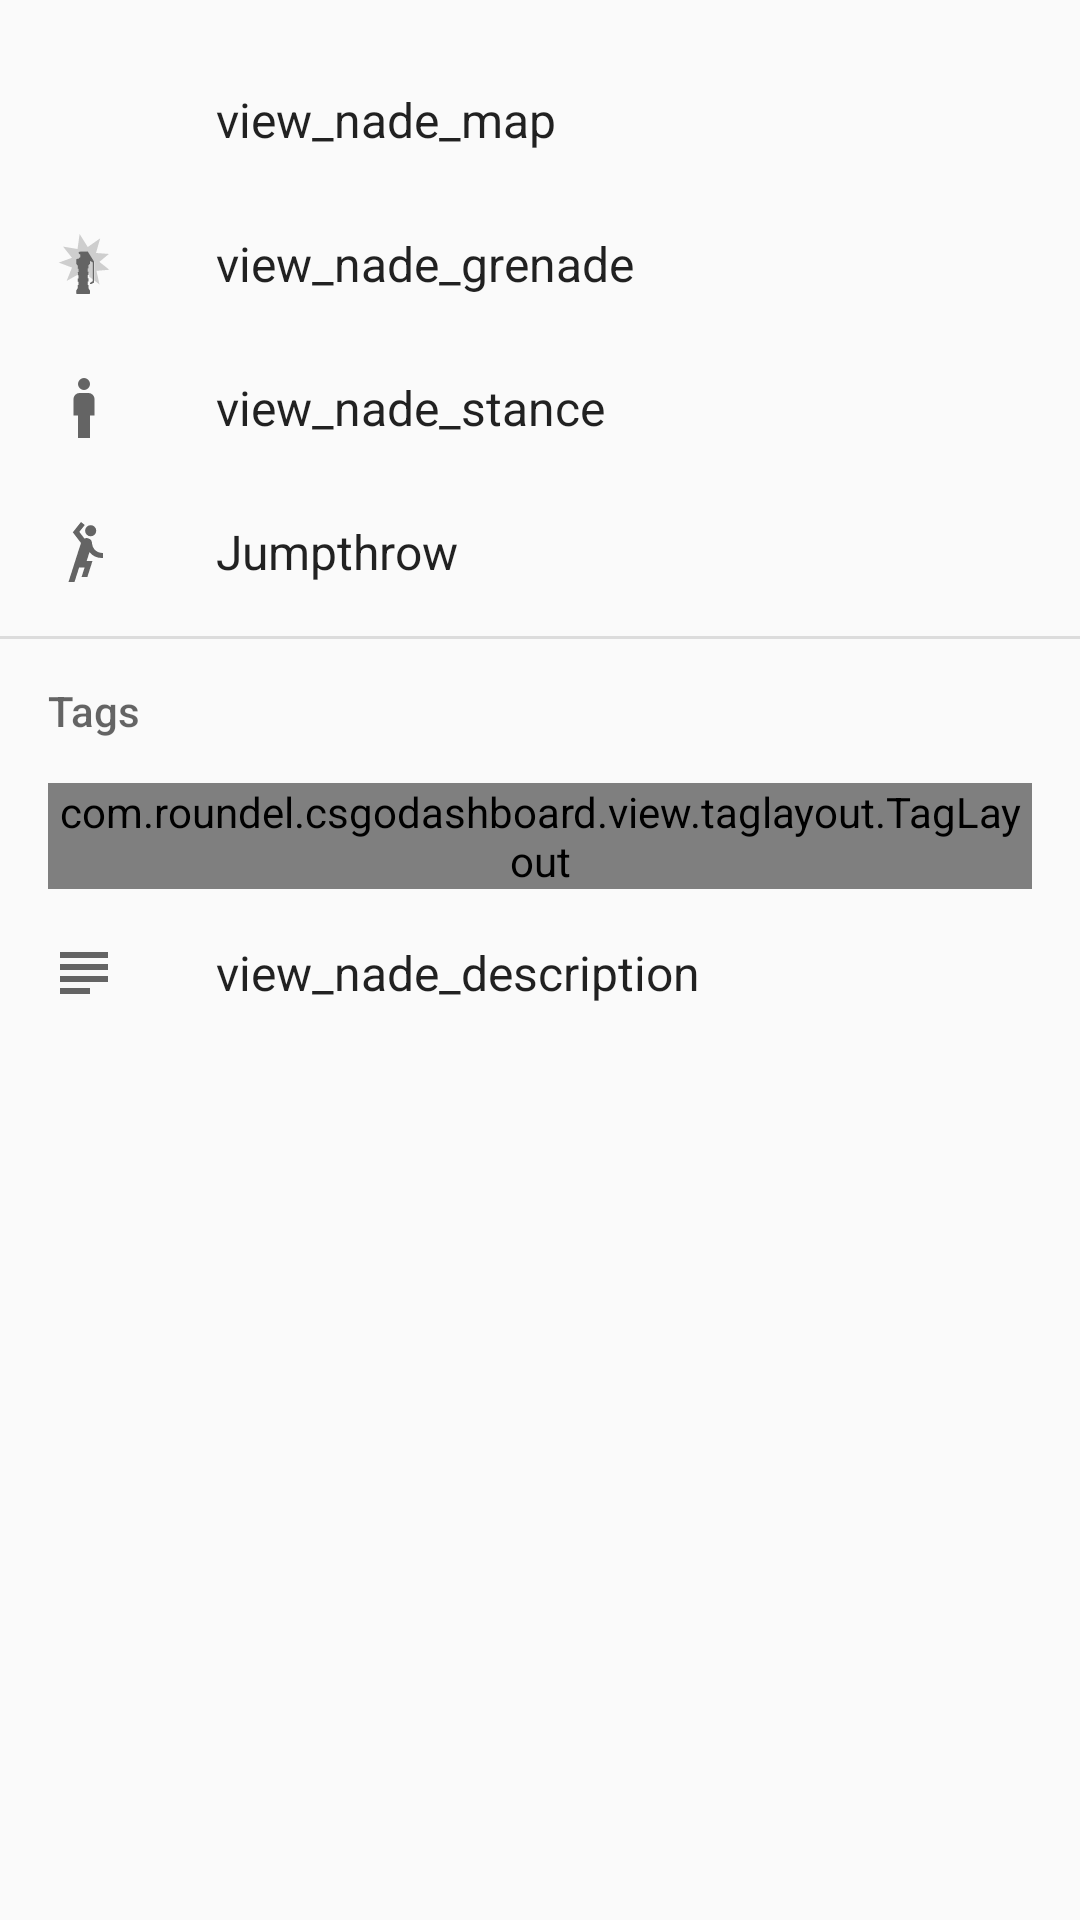

Named icons in this screenshot (1080 × 1920) and their centers, (x=x, y=y):
csgo flashbang: (x=84, y=264)
stance standing: (x=84, y=408)
subject: (x=84, y=973)
